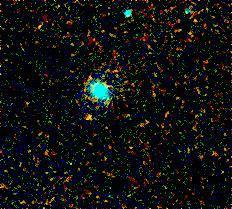star: (70, 105, 100, 135)
